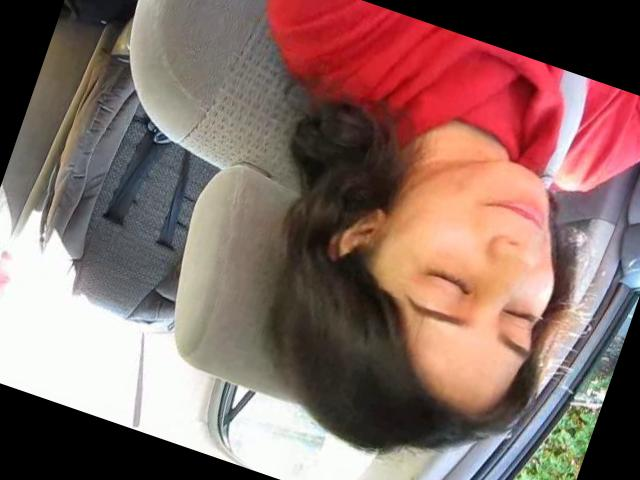eye_closed: (412, 254, 484, 310), (494, 294, 544, 338)
face: (359, 126, 593, 380)
